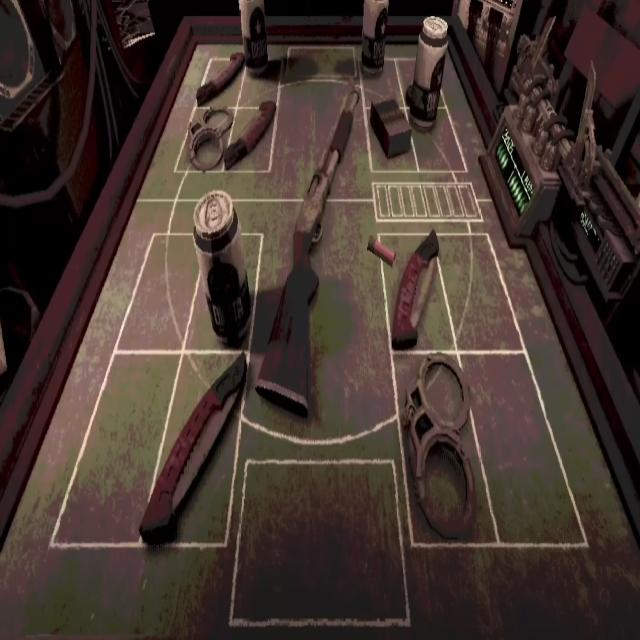can: (193, 190, 252, 343), (406, 17, 447, 128), (238, 0, 274, 76), (362, 0, 388, 74)
cigar: (368, 99, 417, 168)
doubledamage: (139, 352, 247, 545), (390, 230, 439, 351), (225, 101, 276, 168), (196, 51, 244, 106)
handcuff: (401, 353, 477, 544), (187, 108, 233, 170)
